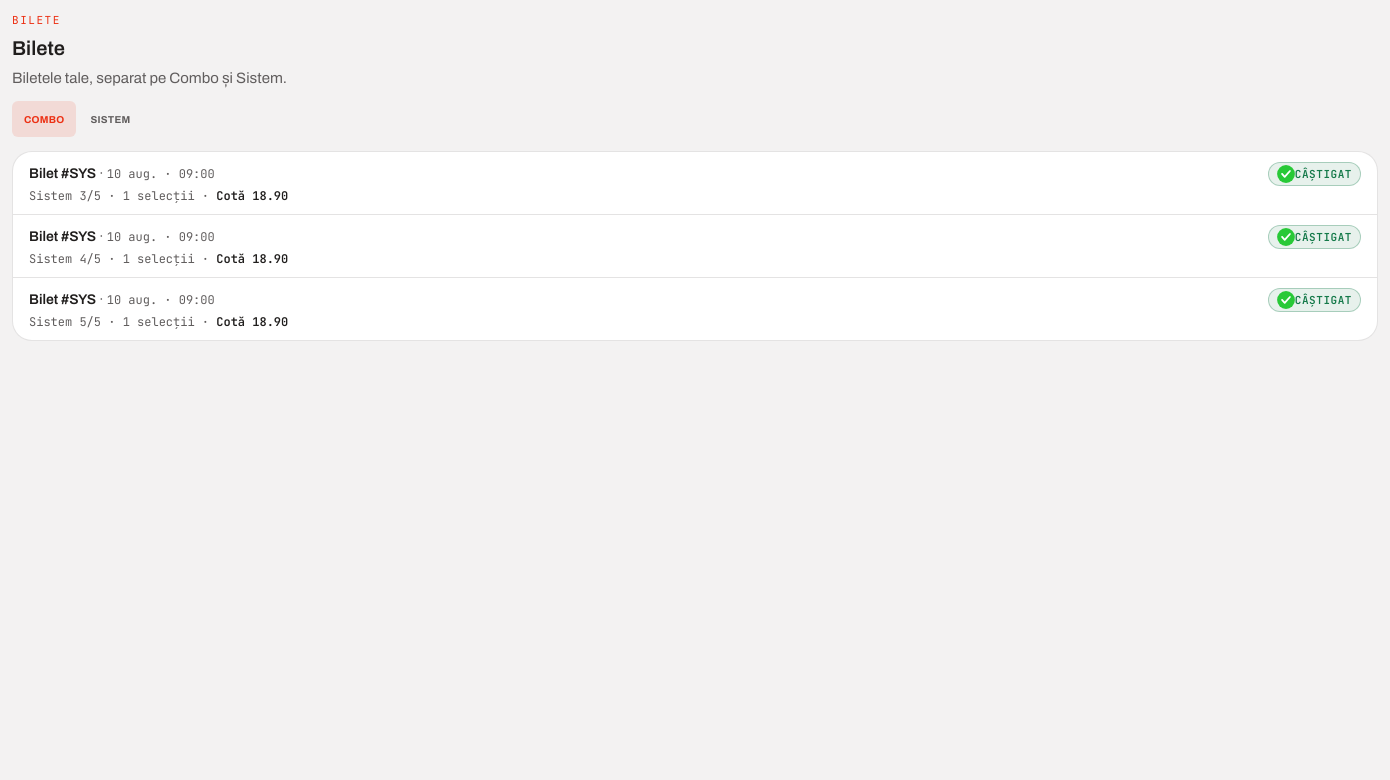
Test: Bilete — Combo and Sistem › a System says how many combinations it covers › states 10, 5 and 1 for 3/5, 4/5 and 5/5
Click the tab "Sistem".
click(110, 119)  # box top-left (78, 101), bottom-right (142, 137)
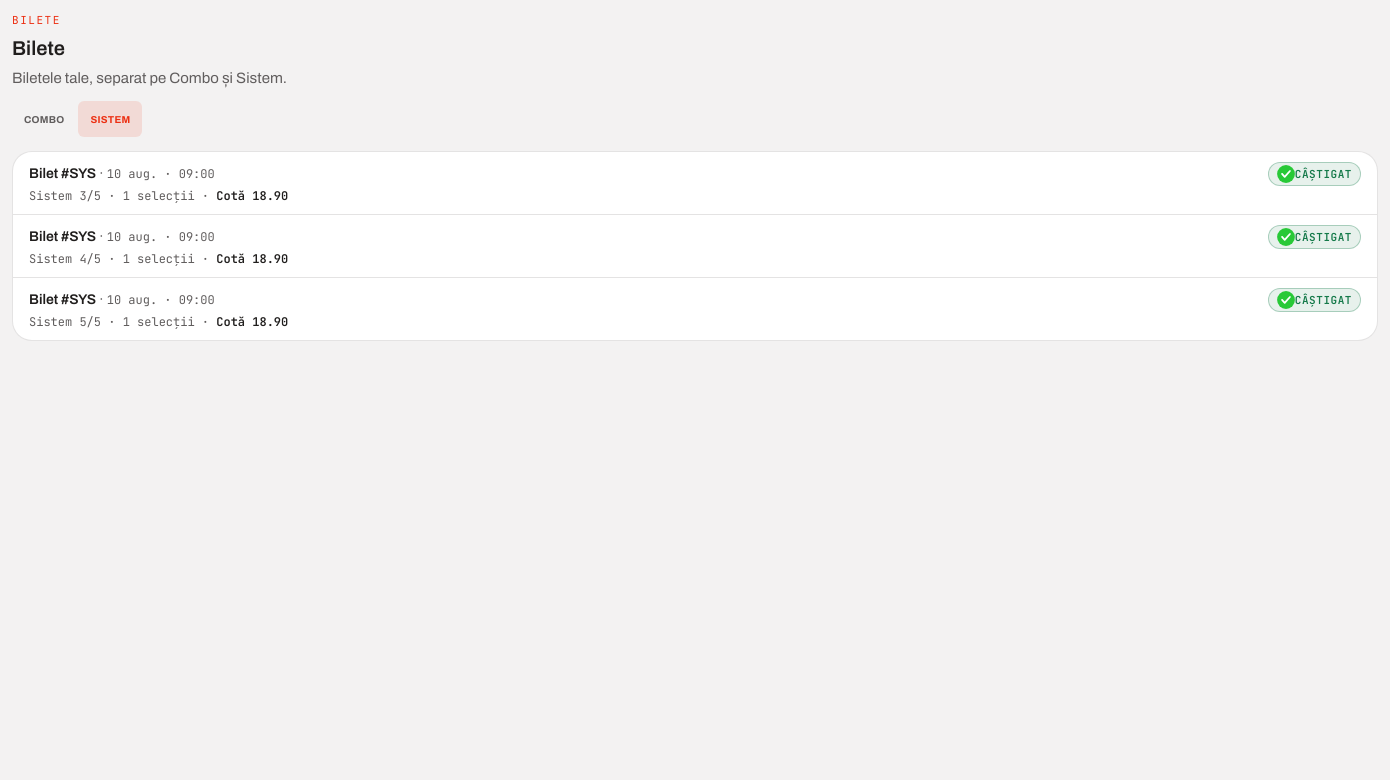
Check: the text "Sistem 3/5" is shown, box top-left (29, 188), bottom-right (101, 204)
Click the button with aria-label "Bilet #SYS, Câștigat, Sistem 3/5, 1 selecții, Cotă 18.90, 10".
click(63, 174)  # box top-left (13, 152), bottom-right (1377, 214)
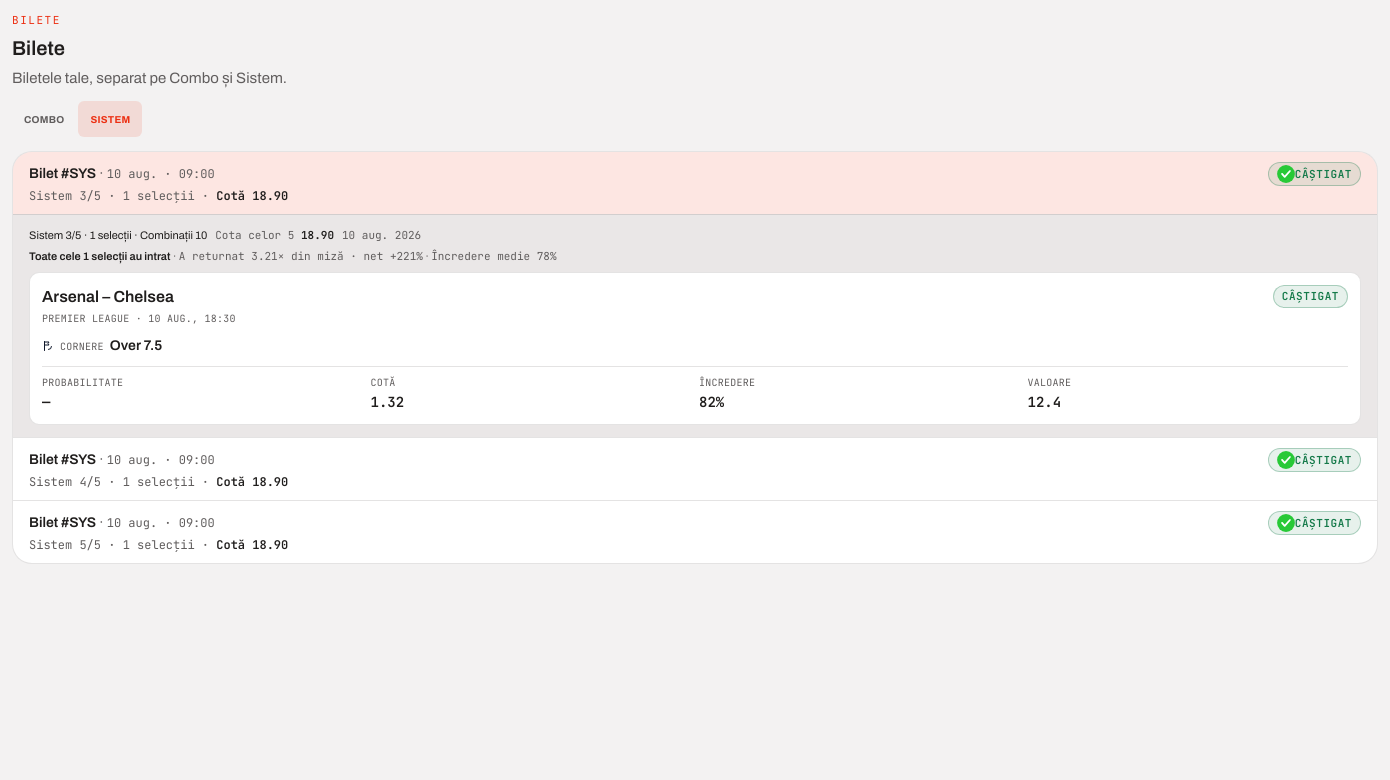
Check: the text "Sistem 3/5 · 1 selecții · Combinații 10" is shown, box top-left (29, 227), bottom-right (207, 244)
Click the button with aria-label "Bilet #SYS, Câștigat, Sistem 4/5, 1 selecții, Cotă 18.90, 10".
click(63, 460)  # box top-left (13, 438), bottom-right (1377, 500)
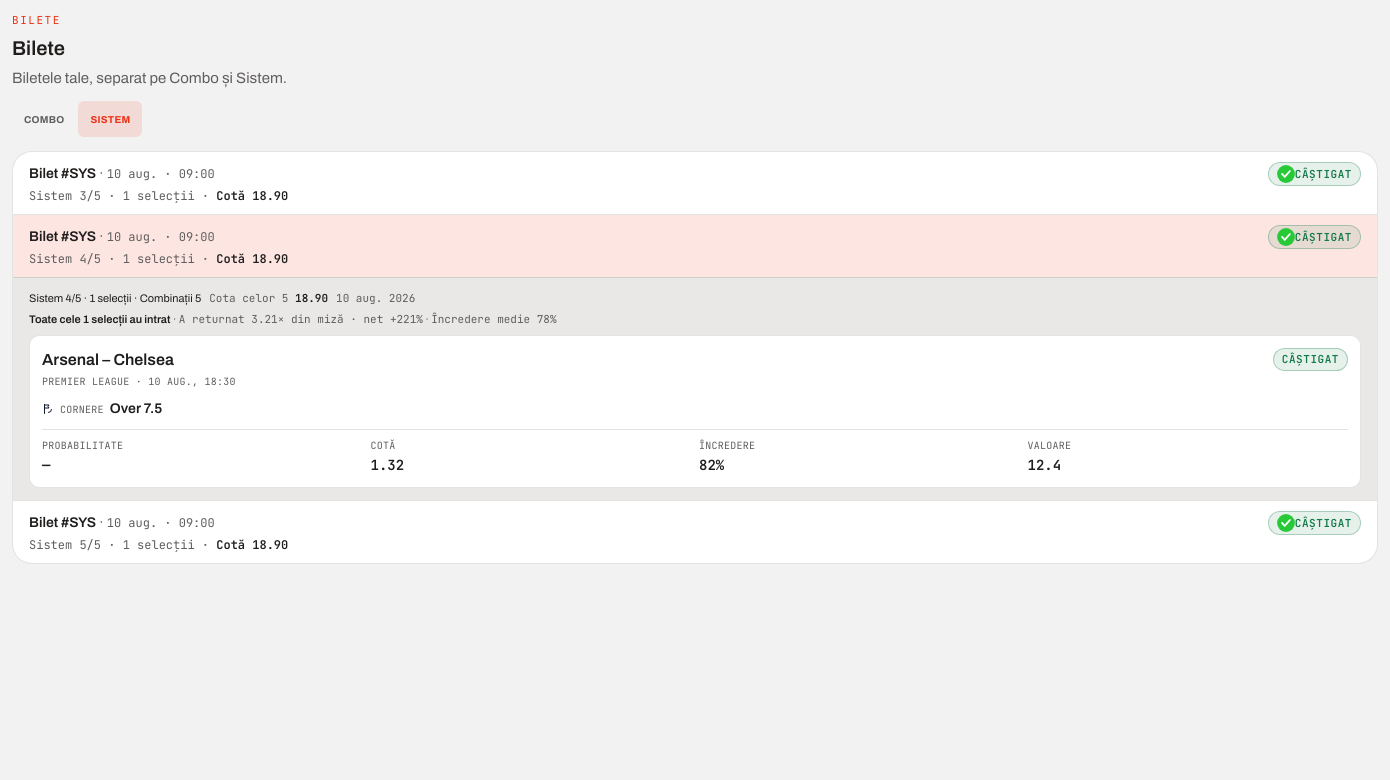
Check: the text "Sistem 4/5 · 1 selecții · Combinații 5" is shown, box top-left (29, 290), bottom-right (201, 306)
Click the button with aria-label "Bilet #SYS, Câștigat, Sistem 5/5, 1 selecții, Cotă 18.90, 10".
click(63, 522)  # box top-left (13, 501), bottom-right (1377, 563)
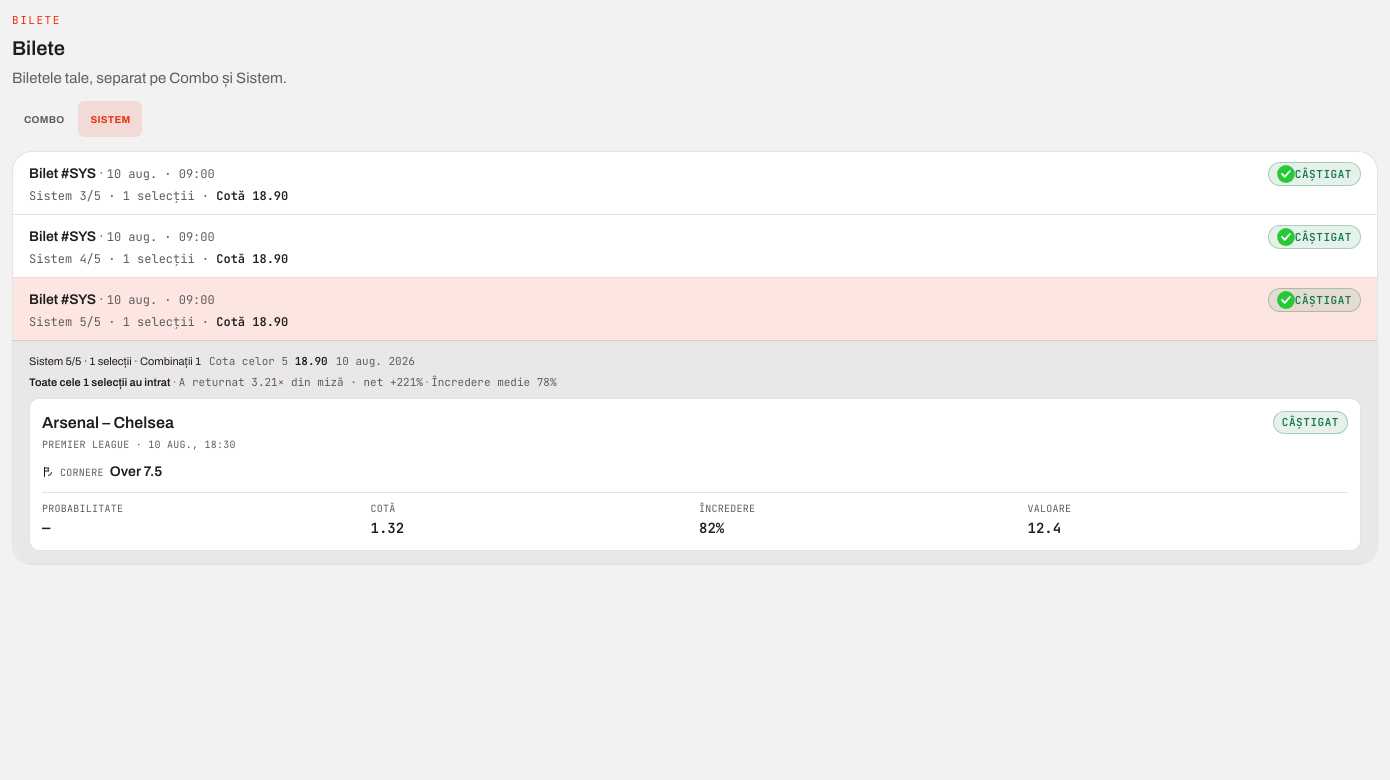
Check: the text "Sistem 5/5 · 1 selecții · Combinații 1" is shown, box top-left (29, 353), bottom-right (201, 370)
